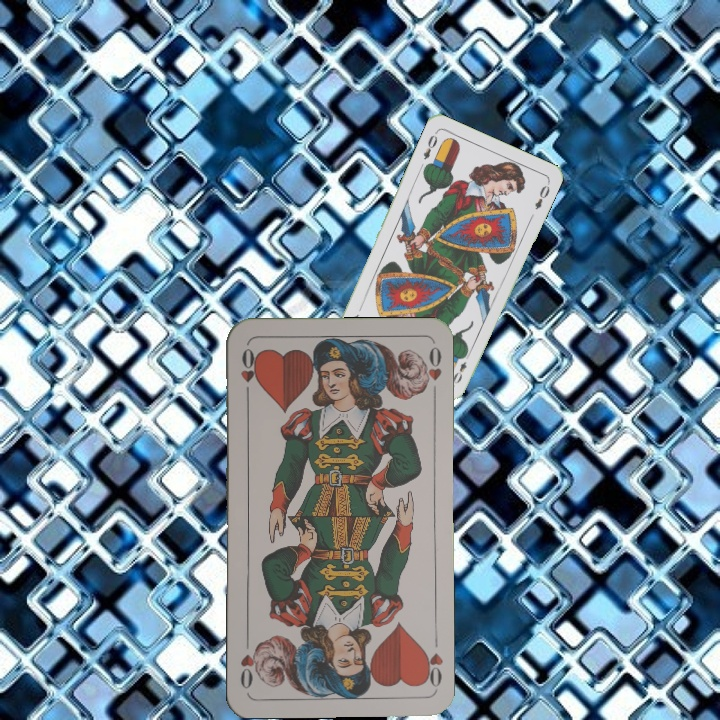EO: (449, 349, 472, 386), (419, 131, 440, 162)
HO: (236, 344, 259, 402), (419, 644, 446, 690)
